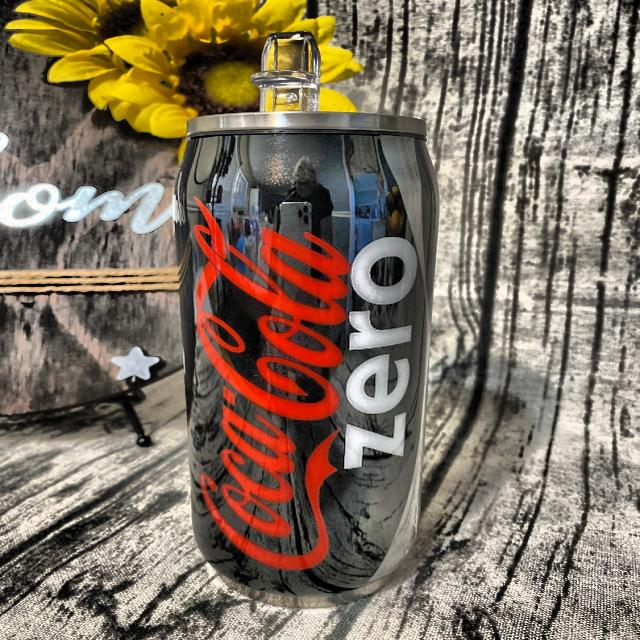Cans: (140, 92, 451, 619), (0, 132, 8, 152)
